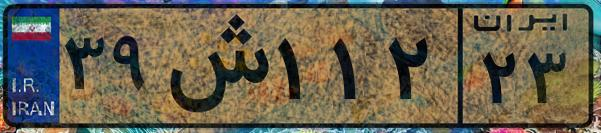1: (270, 28, 330, 110), (330, 28, 385, 110)
2: (385, 28, 445, 110), (475, 38, 525, 113)
3: (57, 26, 110, 100), (525, 38, 570, 115)
9: (110, 28, 158, 98)
ش: (158, 12, 270, 120)
